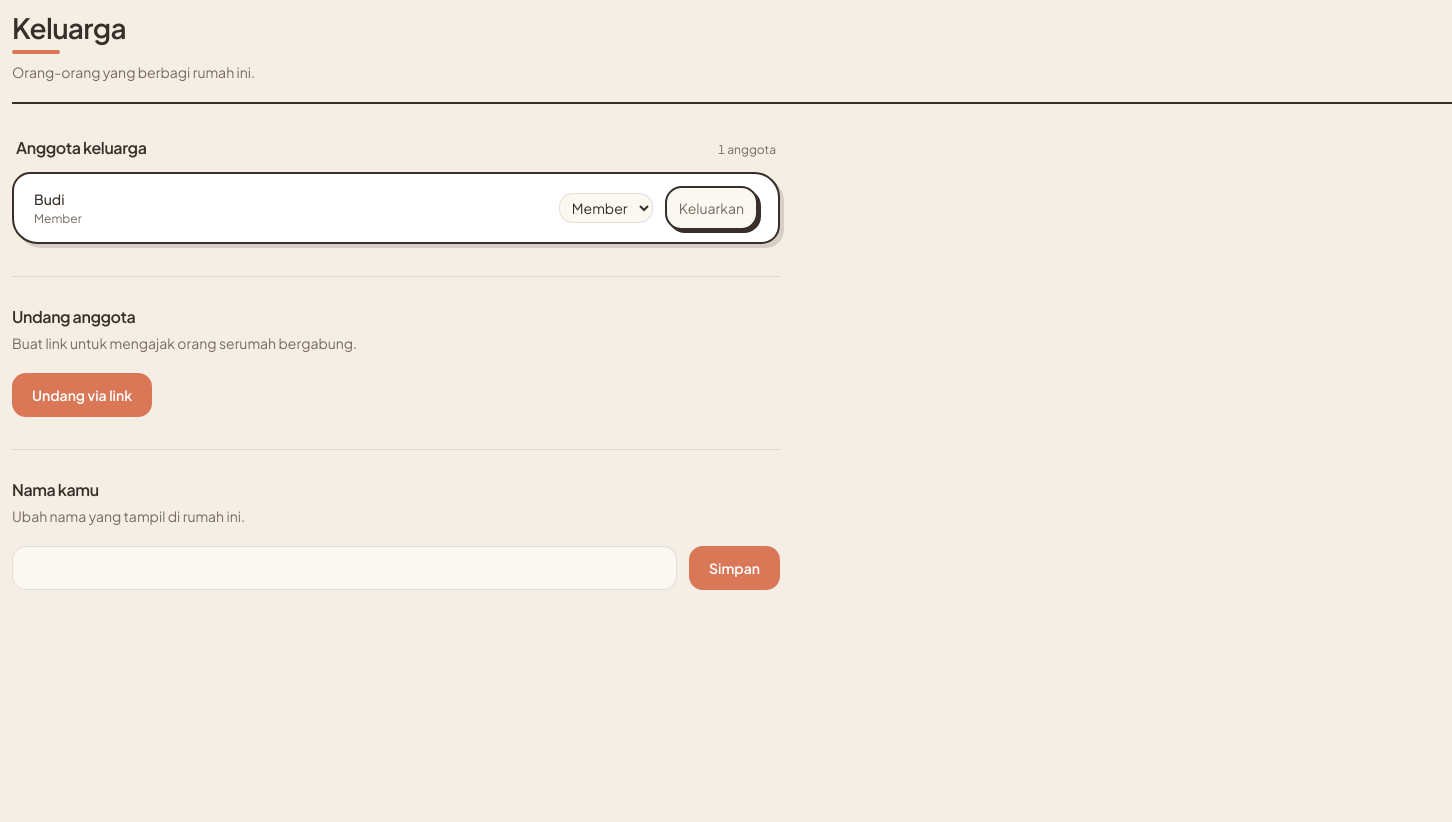
Test: admin klik Keluarkan -> DELETE /api/members + baris hilang
The width and height of the screenshot is (1452, 822).
Click the button "Keluarkan" at (711, 208), box [665,186,758,230]
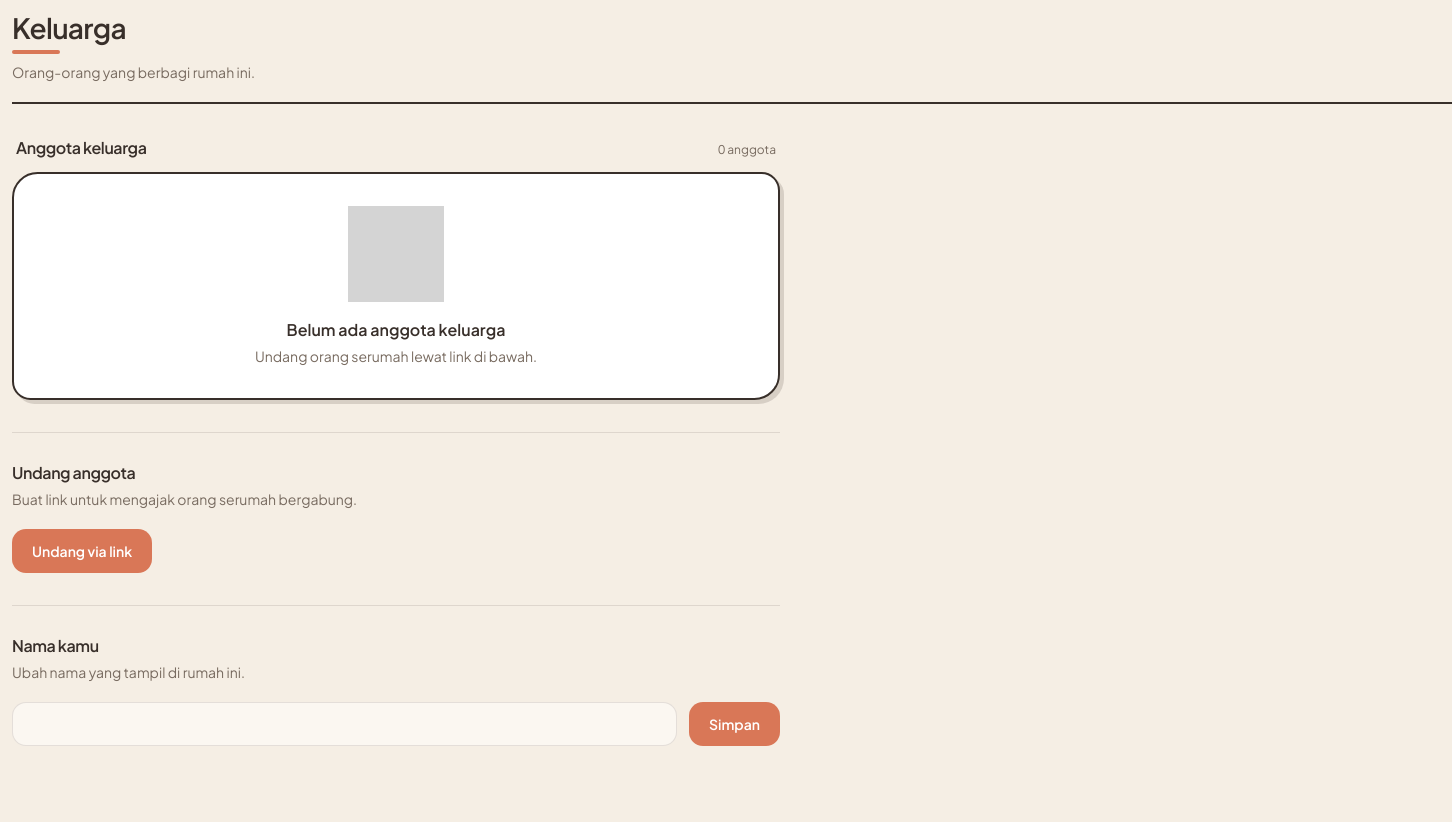
Check: the text "Budi" is gone
